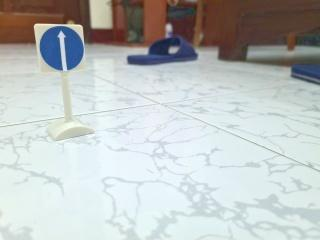straight: (37, 24, 86, 72)
